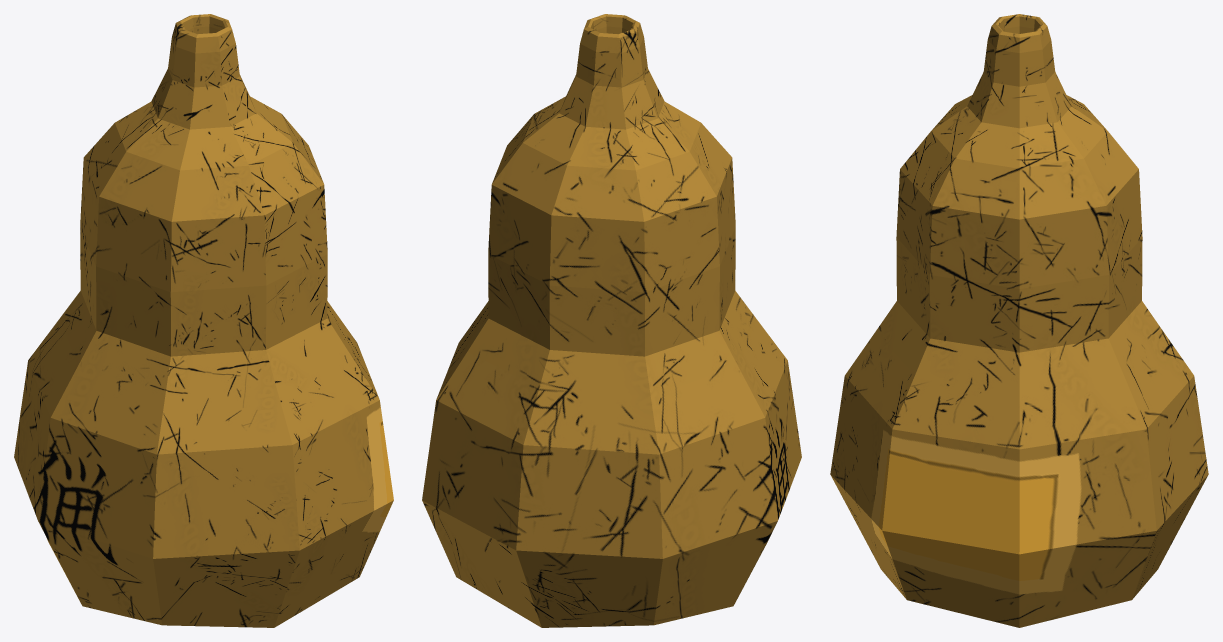
The model's file is Gourd.fbx.
The picture shows the model from 3 angles, left to right: view 1: azimuth 30°, elevation 25°; view 2: azimuth 150°, elevation 25°; view 3: azimuth 270°, elevation 25°; orthographic projection.
Parts seen in each view (by area): view 1: Gourd; view 2: Gourd; view 3: Gourd.
Boxes of the visible parts, x1,y1,x2,y2 form: Gourd: (14,14,393,627); Gourd: (422,14,801,627); Gourd: (830,14,1208,627).
Size of the model in its own units: 404 by 684 by 404.
